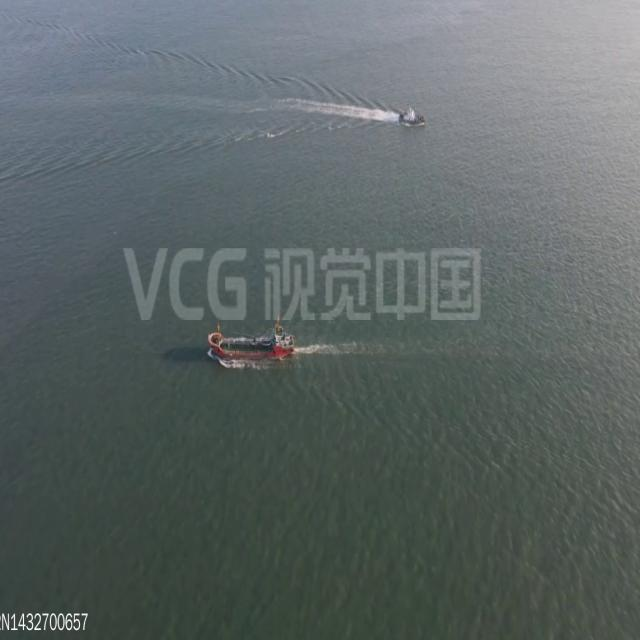cargoship: (206, 316, 298, 369), (397, 104, 428, 131)
